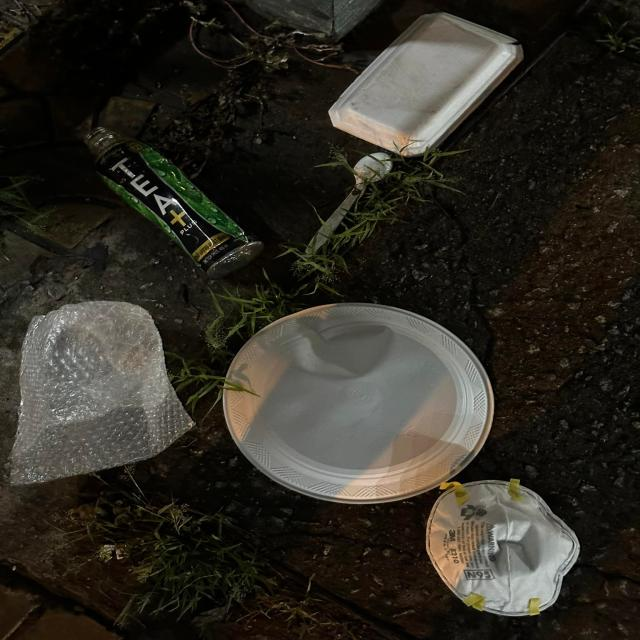bag: (8, 300, 196, 486)
bottle: (84, 127, 263, 279)
foam box: (328, 11, 524, 158)
mask: (425, 478, 580, 616)
plastic holder: (222, 302, 494, 505)
plastic utensil: (305, 152, 392, 254)
